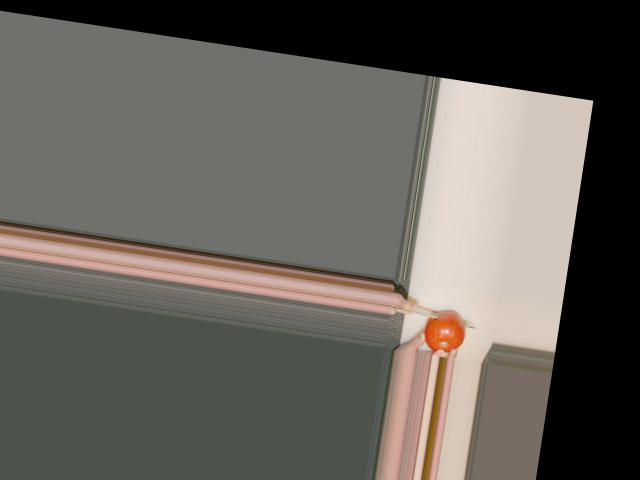tomato: (422, 307, 469, 355)
